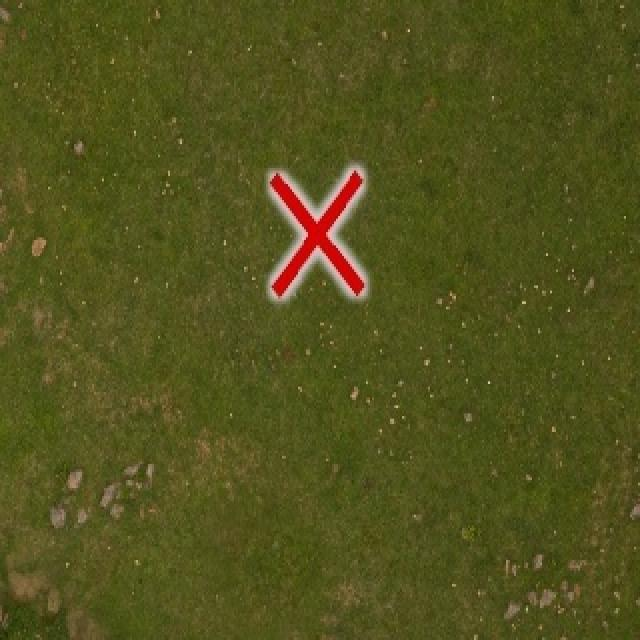x_marker: (271, 169, 363, 295)
